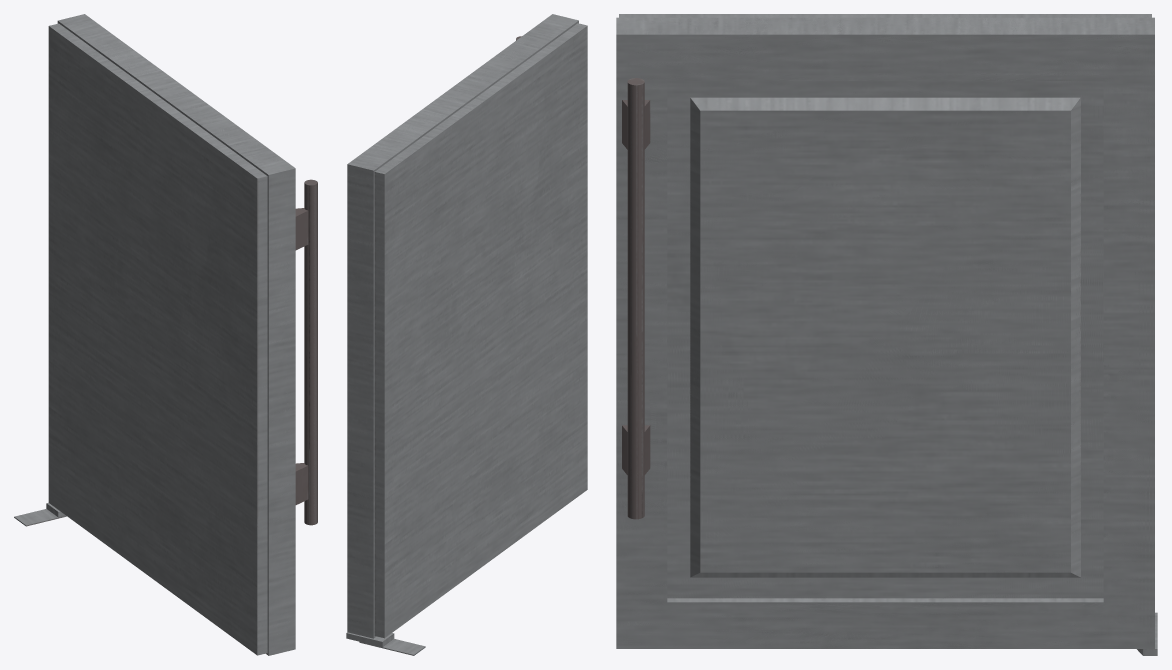
3 views of the same model, side by side, from view 1: azimuth 30°, elevation 25°; view 2: azimuth 150°, elevation 25°; view 3: azimuth 270°, elevation 25° (orthographic). The views are drawn at different scales.
Parts seen in each view (by area): view 1: visuals.001; view 2: visuals.001; view 3: visuals.001.
Part boxes in pixels (x1,y1,x2,y2): visuals.001: (14, 14, 317, 655); visuals.001: (346, 14, 587, 655); visuals.001: (616, 14, 1157, 655).
Size of the model in its own units: 0.1698 by 0.8023 by 0.6325.
Materials: 1 (1 with a texture image).
